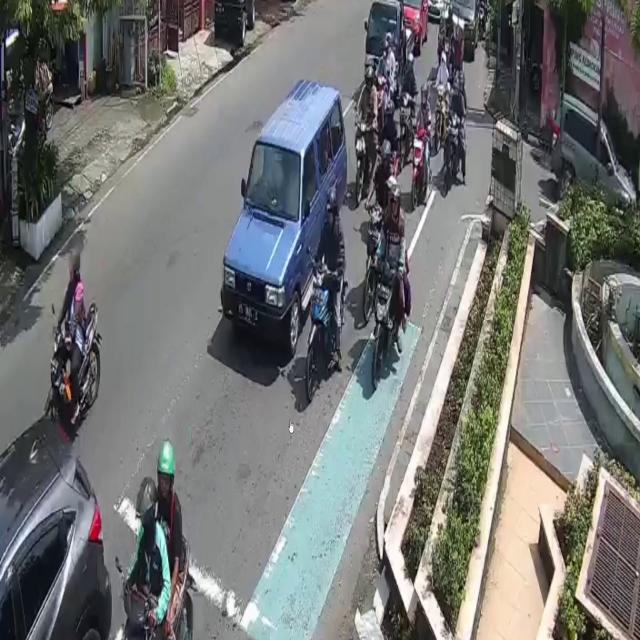car: (219, 75, 349, 363), (0, 413, 113, 640), (552, 85, 637, 236), (364, 0, 414, 78)
motorbike: (36, 305, 104, 422), (307, 252, 347, 393), (374, 251, 406, 382), (447, 109, 470, 192), (414, 124, 434, 203), (357, 114, 374, 200)
